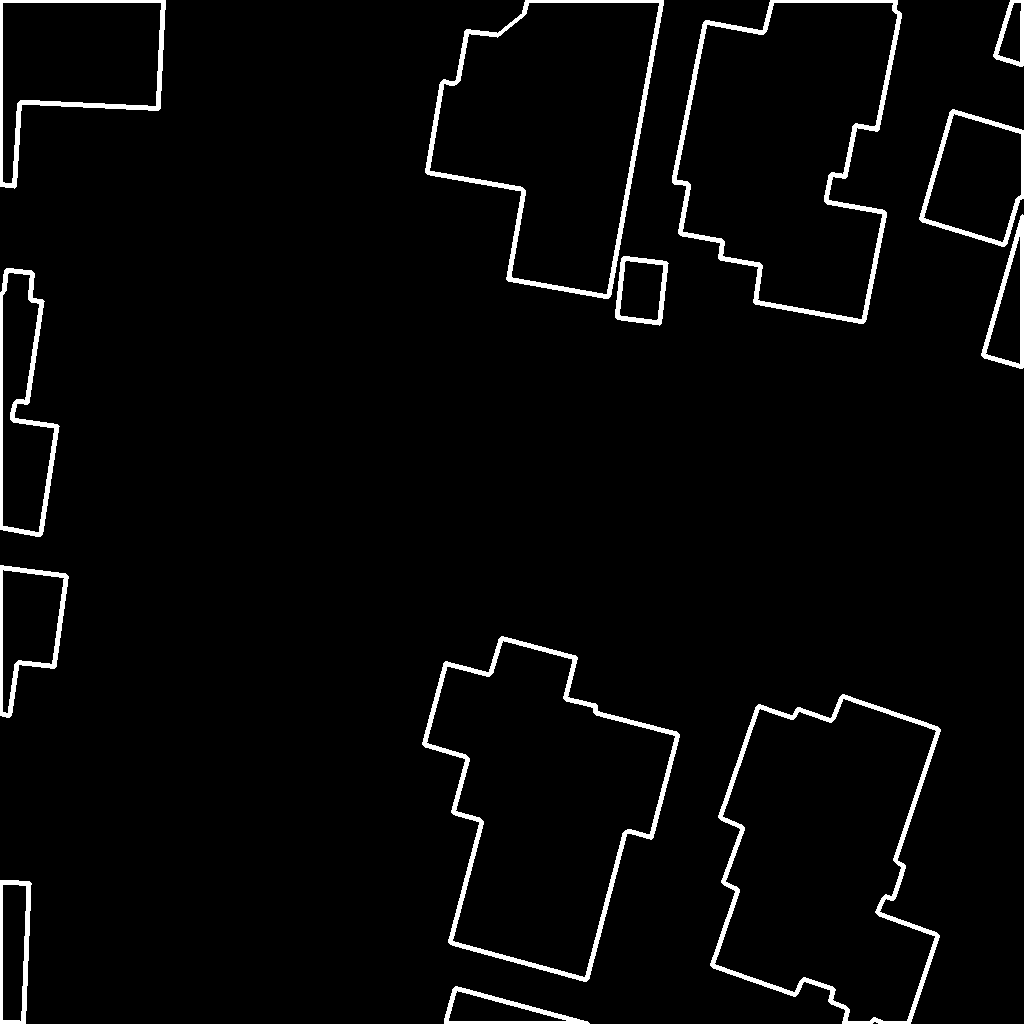building: (424, 638, 679, 981), (712, 696, 940, 1024), (674, 0, 901, 323), (427, 0, 663, 298), (921, 0, 1024, 368), (0, 0, 165, 187), (0, 270, 58, 536), (0, 567, 68, 717), (446, 988, 589, 1024), (0, 882, 30, 1024), (617, 258, 667, 324)
